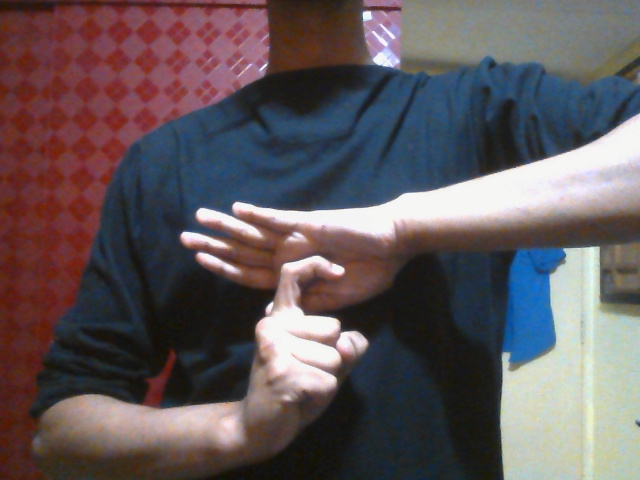R: (174, 198, 404, 435)
